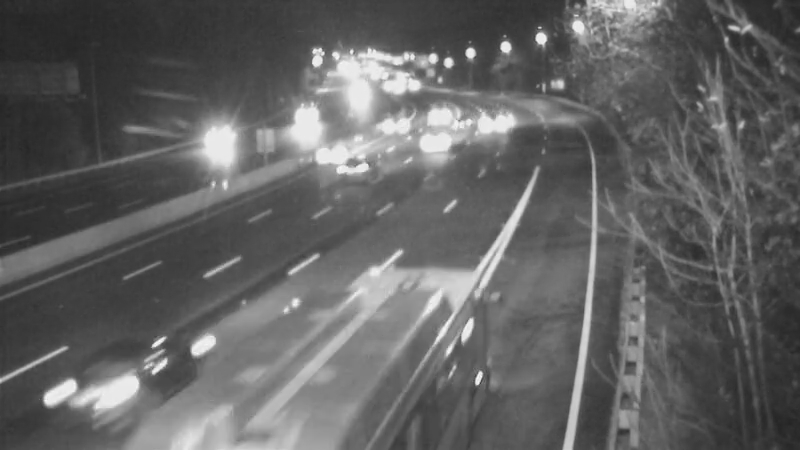vehicle: (233, 342, 343, 450), (35, 345, 145, 450), (289, 112, 369, 192), (309, 124, 389, 204), (411, 87, 461, 137), (469, 95, 519, 145), (443, 95, 493, 145), (374, 99, 424, 149), (411, 111, 461, 161), (190, 121, 240, 171), (281, 100, 331, 150)
